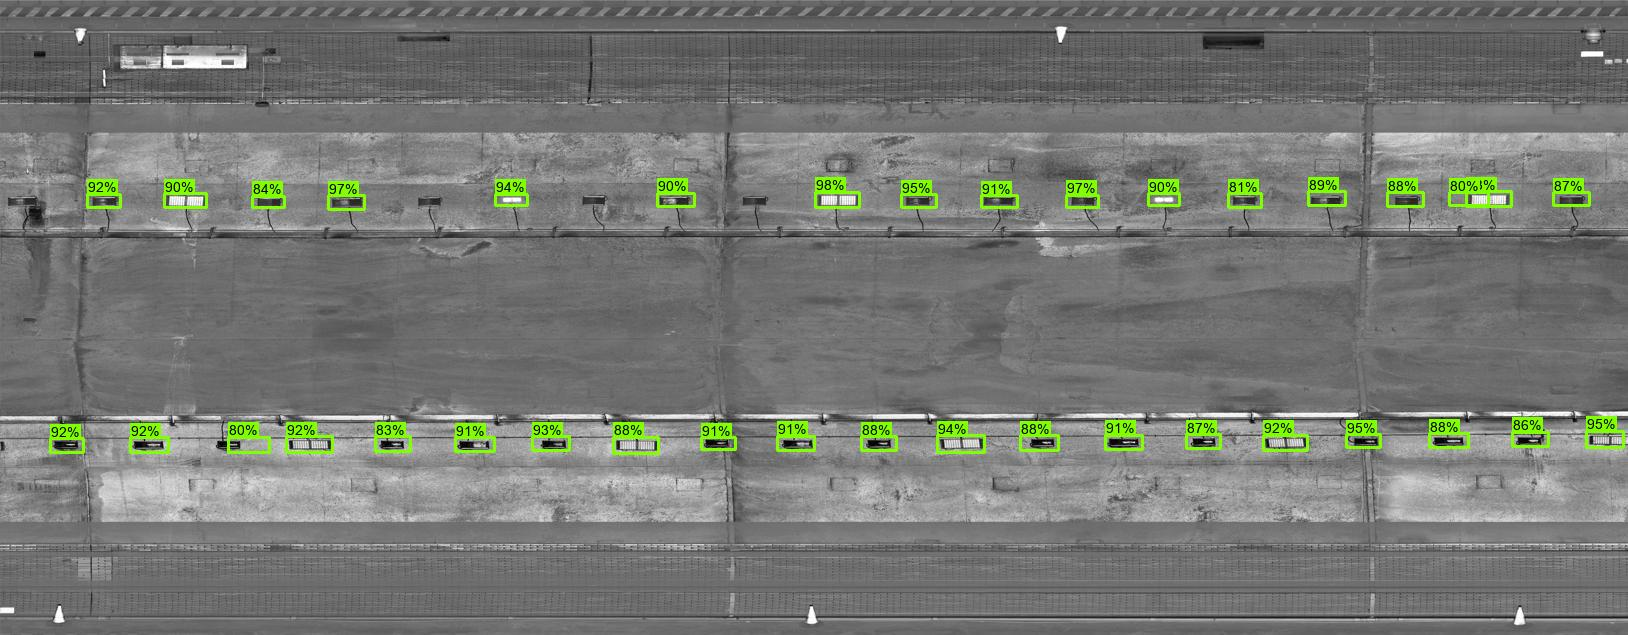light: (284, 435, 336, 454), (938, 433, 989, 452), (610, 435, 661, 454), (1261, 432, 1312, 451), (814, 191, 865, 210), (1463, 191, 1514, 210), (1582, 432, 1628, 448), (163, 193, 208, 210), (51, 438, 91, 453), (128, 439, 168, 454), (207, 437, 247, 452), (374, 438, 414, 453), (453, 437, 493, 452), (536, 437, 576, 452), (701, 437, 741, 452), (778, 438, 818, 453), (860, 436, 900, 451), (1023, 436, 1063, 451), (1105, 435, 1145, 450), (1184, 434, 1224, 449), (1350, 434, 1390, 449), (1428, 433, 1468, 448), (1512, 435, 1552, 450), (4, 192, 44, 208), (576, 192, 616, 208), (326, 196, 367, 211), (3, 194, 43, 209), (86, 194, 126, 209), (253, 195, 293, 210), (409, 195, 449, 210), (654, 195, 694, 210), (735, 193, 775, 208), (899, 194, 939, 209), (979, 194, 1019, 209), (1065, 193, 1105, 208), (1307, 194, 1347, 209), (1387, 195, 1427, 210), (1552, 193, 1592, 208), (495, 194, 530, 208), (1151, 193, 1181, 206), (1230, 194, 1259, 208)
